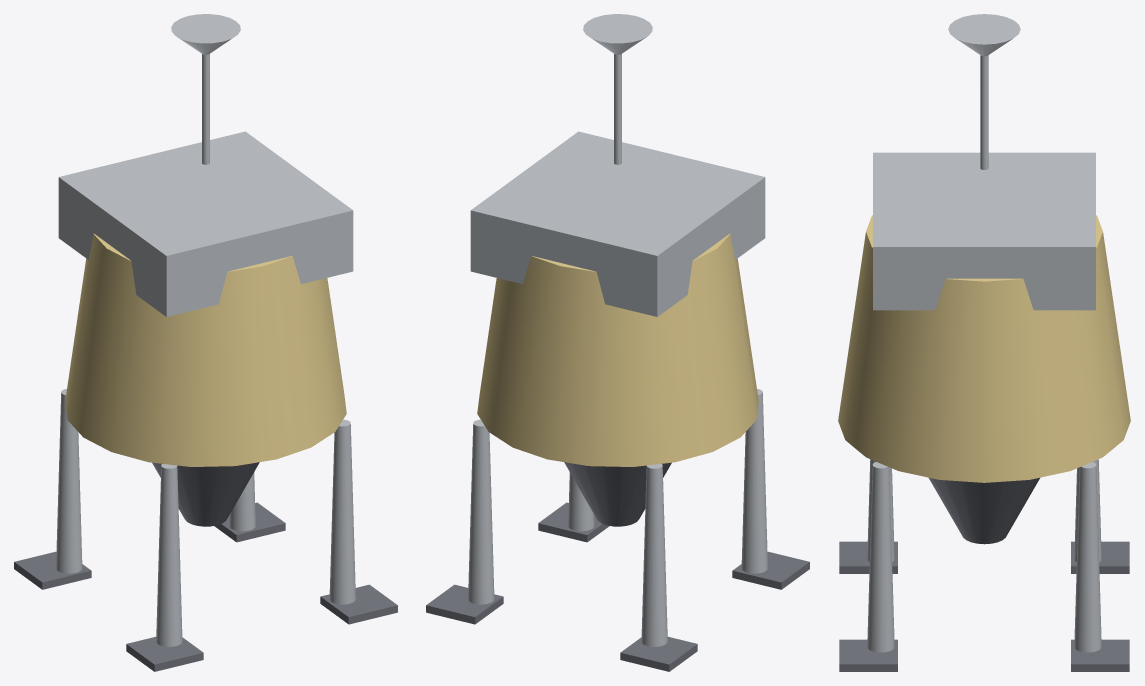
The model's file is moon_lander.glb.
3 renders of one model, left to right at view 1: azimuth 30°, elevation 25°; view 2: azimuth 150°, elevation 25°; view 3: azimuth 270°, elevation 25°, orthographic. The views are drawn at different scales.
Parts seen in each view (by area): view 1: 机身, 设备舱, 着陆腿1, 着陆腿0, 发动机喷口, 着陆腿2, 天线碟, 脚垫1, 脚垫0, 脚垫2, 脚垫3, 着陆腿3 (+1 smaller); view 2: 机身, 设备舱, 着陆腿2, 着陆腿3, 发动机喷口, 着陆腿1, 天线碟, 脚垫2, 脚垫3, 脚垫1, 脚垫0, 着陆腿0 (+1 smaller); view 3: 机身, 设备舱, 发动机喷口, 着陆腿0, 着陆腿3, 天线碟, 脚垫0, 脚垫3, 脚垫1, 脚垫2, 天线杆, 着陆腿1 (+1 smaller).
Part boxes in pixels (<box>): 机身: <box>65,233,346,466</box>; 设备舱: <box>58,131,353,316</box>; 着陆腿1: <box>156,464,182,646</box>; 着陆腿0: <box>329,419,355,604</box>; 发动机喷口: <box>152,462,259,526</box>; 着陆腿2: <box>56,389,82,573</box>; 天线碟: <box>171,14,240,54</box>; 脚垫1: <box>126,636,203,671</box>; 脚垫0: <box>320,584,397,624</box>; 脚垫2: <box>14,551,91,589</box>; 脚垫3: <box>214,502,285,542</box>; 着陆腿3: <box>229,472,255,531</box>; 机身: <box>477,233,758,466</box>; 设备舱: <box>470,131,765,316</box>; 着陆腿2: <box>641,464,667,646</box>; 着陆腿3: <box>468,419,494,604</box>; 发动机喷口: <box>564,462,671,526</box>; 着陆腿1: <box>741,389,767,573</box>; 天线碟: <box>583,14,652,54</box>; 脚垫2: <box>620,636,697,671</box>; 脚垫3: <box>426,584,503,624</box>; 脚垫1: <box>732,551,809,589</box>; 脚垫0: <box>538,502,609,542</box>; 着陆腿0: <box>568,472,594,531</box>; 机身: <box>838,215,1130,482</box>; 设备舱: <box>873,152,1095,310</box>; 发动机喷口: <box>929,477,1039,544</box>; 着陆腿0: <box>867,462,894,652</box>; 着陆腿3: <box>1074,462,1101,652</box>; 天线碟: <box>948,14,1020,56</box>; 脚垫0: <box>839,639,897,671</box>; 脚垫3: <box>1071,639,1129,671</box>; 脚垫1: <box>839,541,897,573</box>; 脚垫2: <box>1071,541,1129,573</box>; 天线杆: <box>980,55,988,169</box>; 着陆腿1: <box>867,459,894,561</box>.
Bounding box in the file's own units: 2.1 × 4.6 × 2.1.
